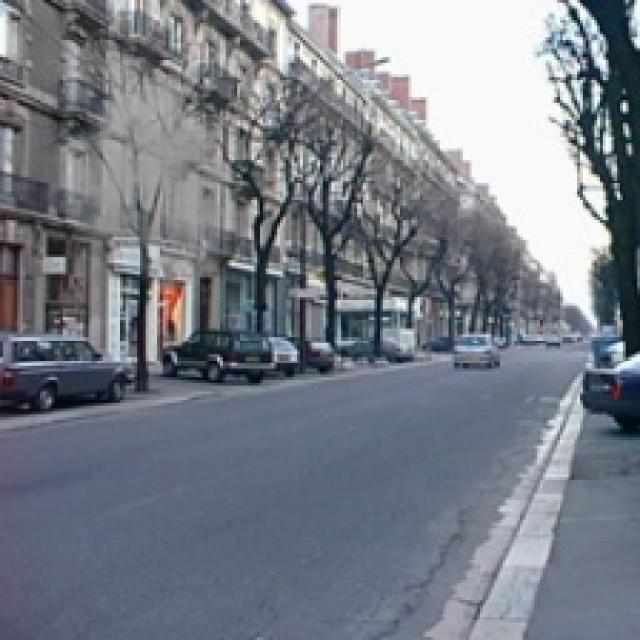Smoke: (49, 48, 258, 292)
